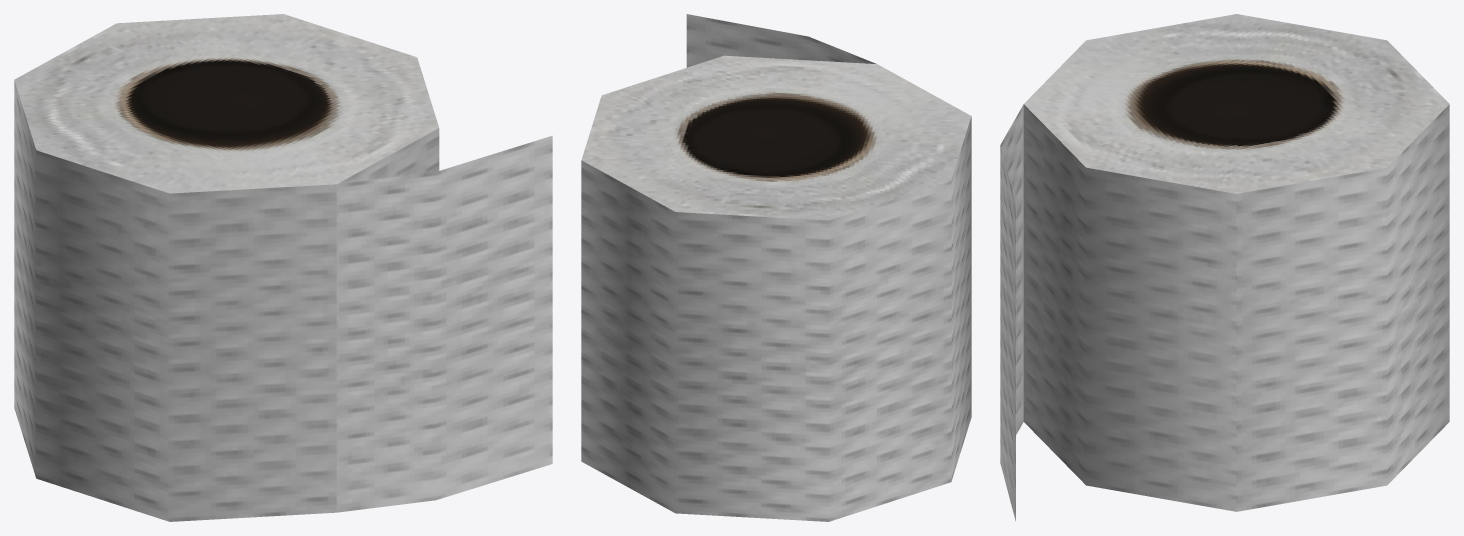
The model's file is Paper Roll.fbx.
3 renders of one model, left to right at view 1: azimuth 30°, elevation 25°; view 2: azimuth 150°, elevation 25°; view 3: azimuth 270°, elevation 25°, orthographic. The views are drawn at different scales.
Visible parts, largest first — view 1: Circle; view 2: Circle; view 3: Circle.
Boxes of the visible parts, bbox=[...] form: Circle: bbox=[14, 14, 552, 521]; Circle: bbox=[581, 14, 971, 521]; Circle: bbox=[1000, 14, 1449, 521].
Size of the model in its own units: 12.36 by 9.64 by 12.35.
